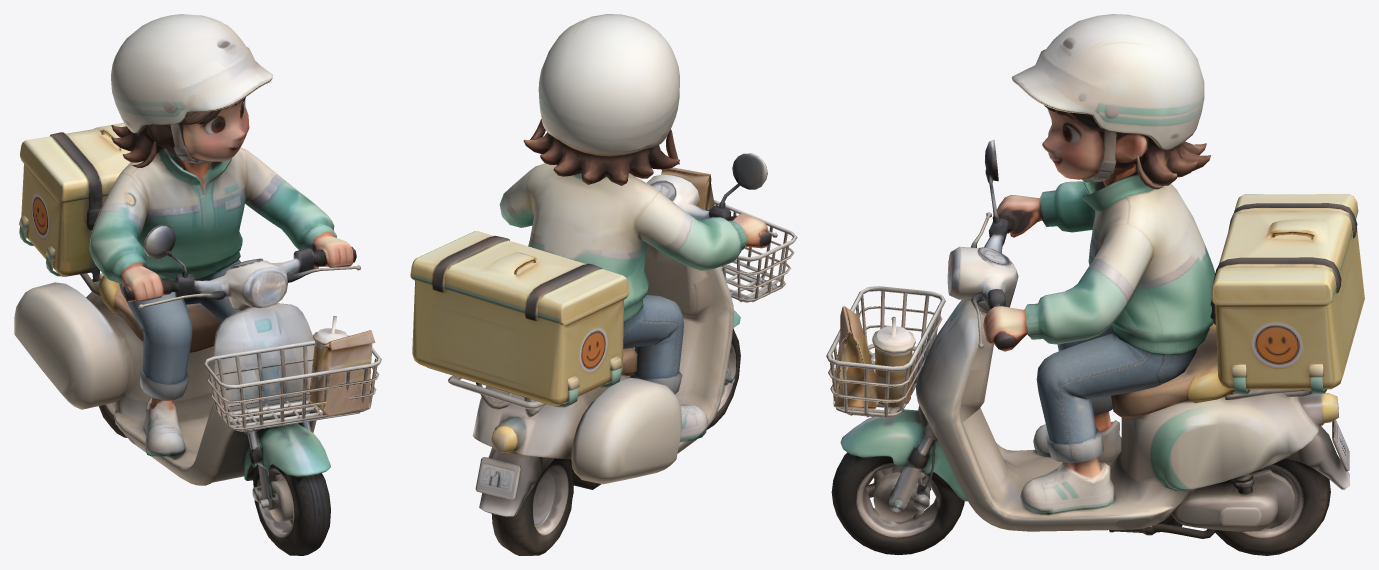
The model's file is rider-girl.glb.
3 renders of one model, left to right at view 1: azimuth 30°, elevation 25°; view 2: azimuth 150°, elevation 25°; view 3: azimuth 270°, elevation 25°, orthographic. The views are drawn at different scales.
Parts seen in each view (by area): view 1: tripo_8c172781_591a_40ae_8932_9f3f2e43b1f1; view 2: tripo_8c172781_591a_40ae_8932_9f3f2e43b1f1; view 3: tripo_8c172781_591a_40ae_8932_9f3f2e43b1f1.
Part boxes in pixels (left/top/right/bottom): tripo_8c172781_591a_40ae_8932_9f3f2e43b1f1: left=14, top=14, right=381, bottom=555; tripo_8c172781_591a_40ae_8932_9f3f2e43b1f1: left=410, top=14, right=797, bottom=555; tripo_8c172781_591a_40ae_8932_9f3f2e43b1f1: left=826, top=14, right=1364, bottom=555.
Size of the model in its own units: 0.5093 by 0.9995 by 0.9282.
Materials: 1 (1 with a texture image).
